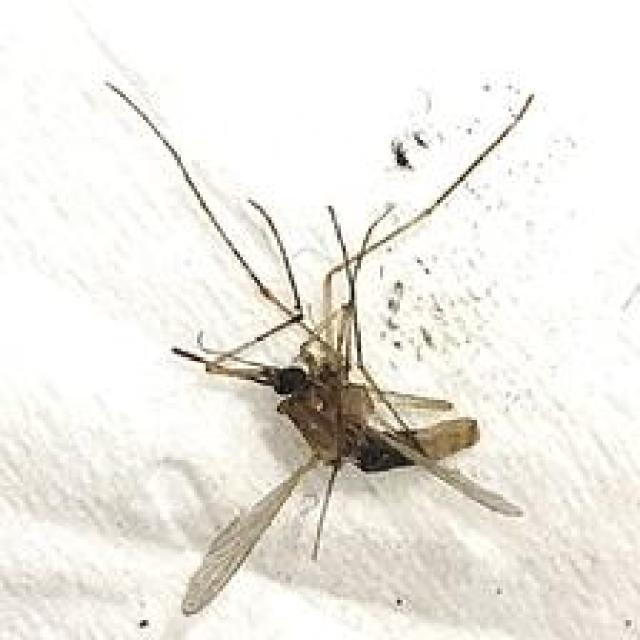Culex: (101, 77, 536, 617)
